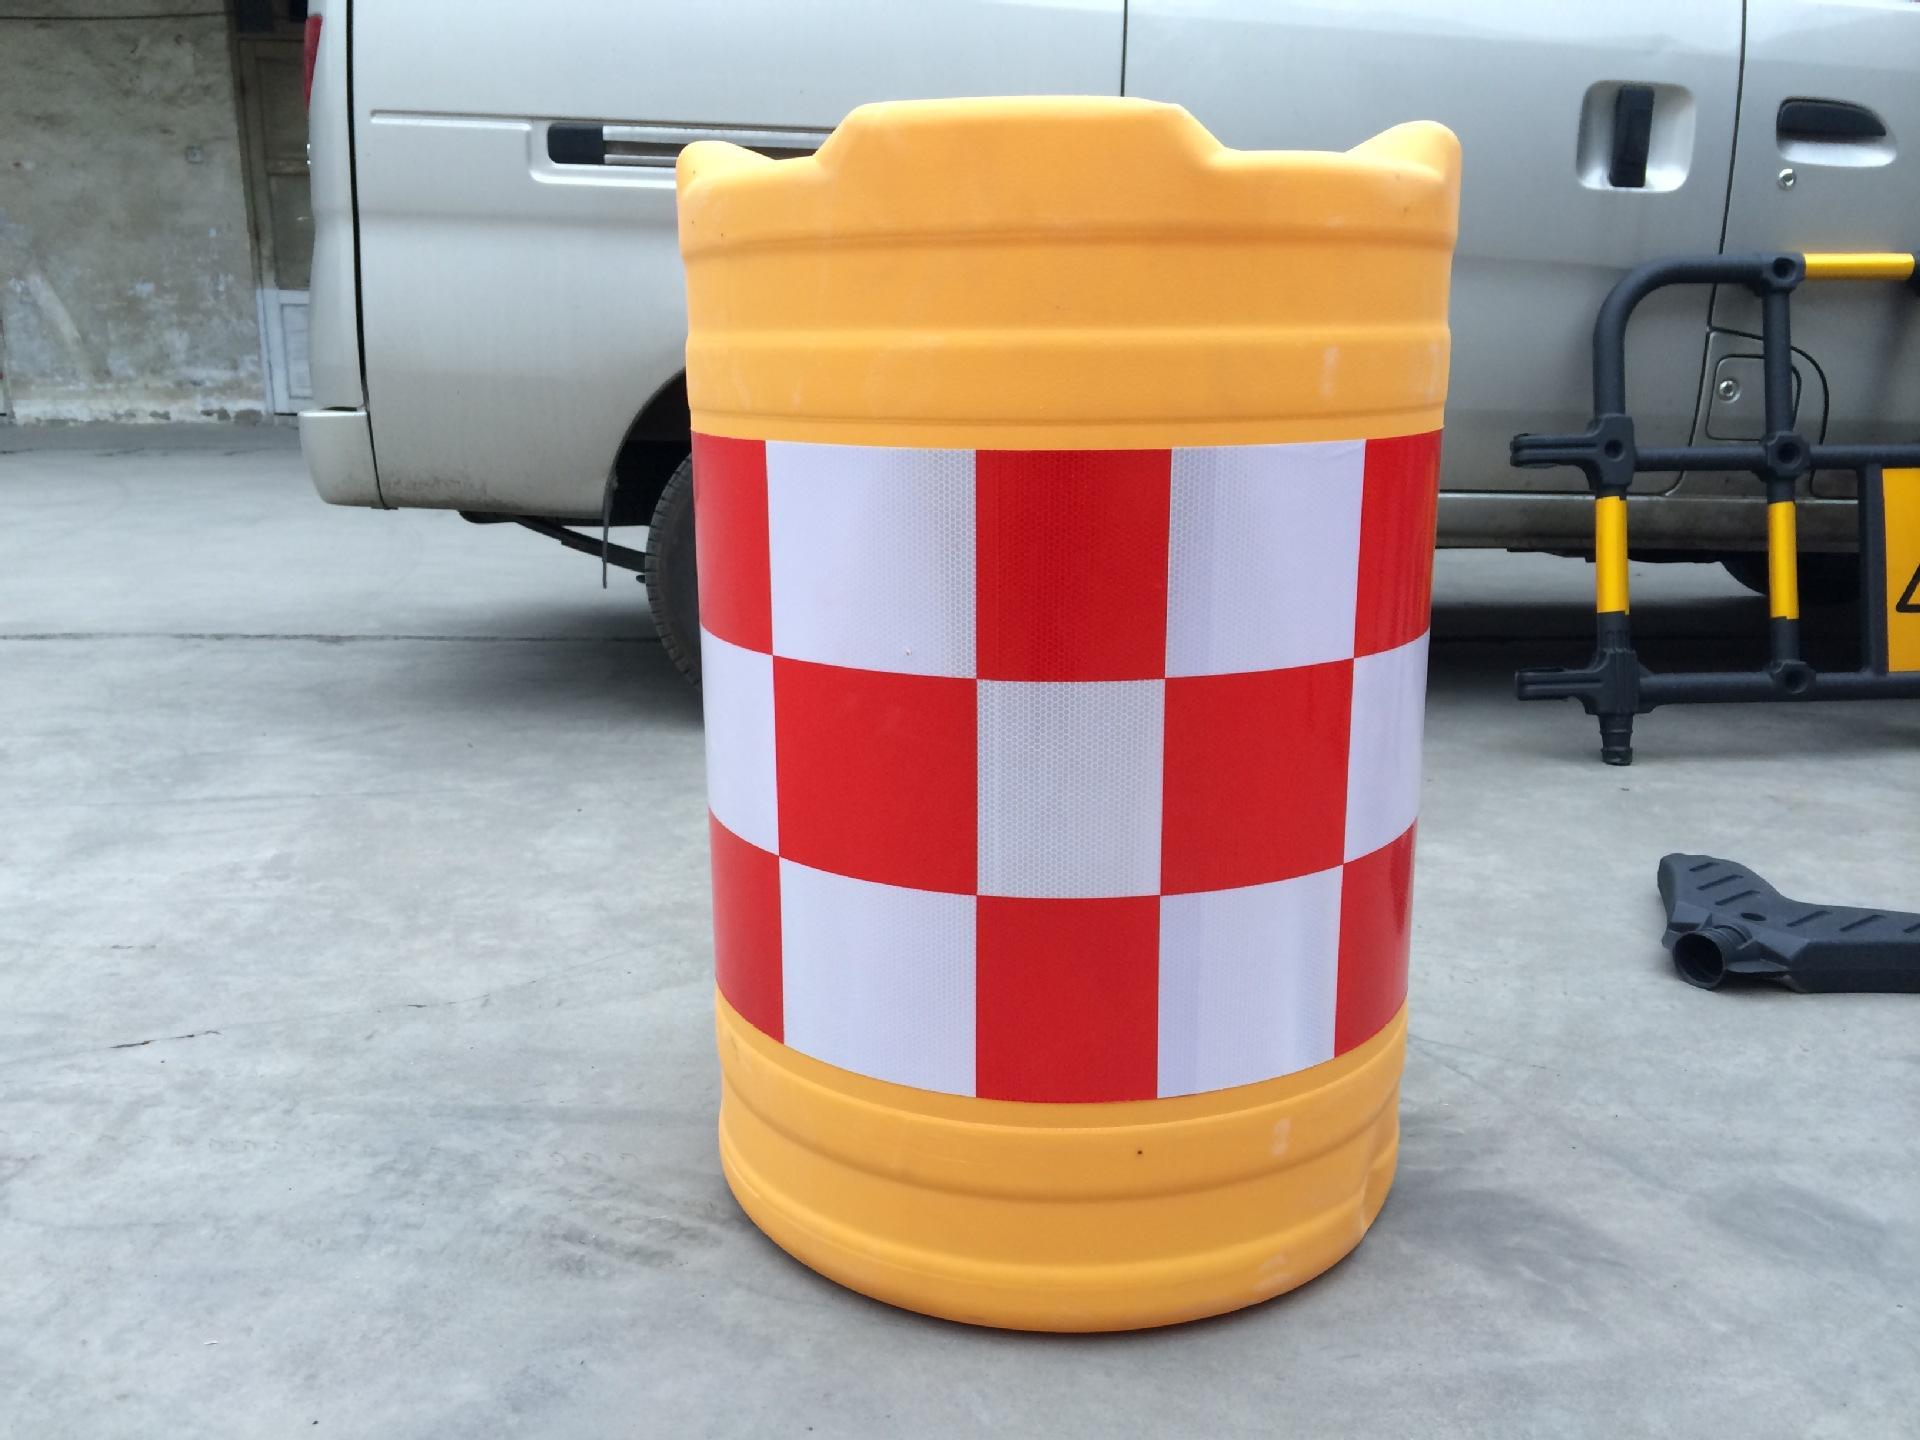sign: (606, 70, 1512, 1351)
